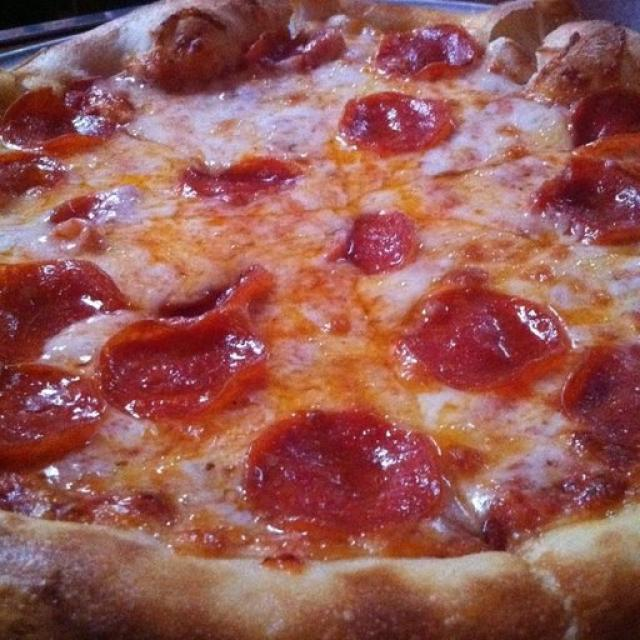Pepperoni: (110, 260, 276, 418), (246, 410, 442, 525), (416, 277, 566, 389), (0, 366, 106, 469), (543, 135, 640, 242), (0, 259, 108, 353), (1, 78, 107, 159), (570, 350, 640, 471), (354, 87, 457, 153), (382, 19, 481, 84), (171, 158, 301, 206), (336, 210, 416, 271)
Pizza: (0, 0, 640, 640)
